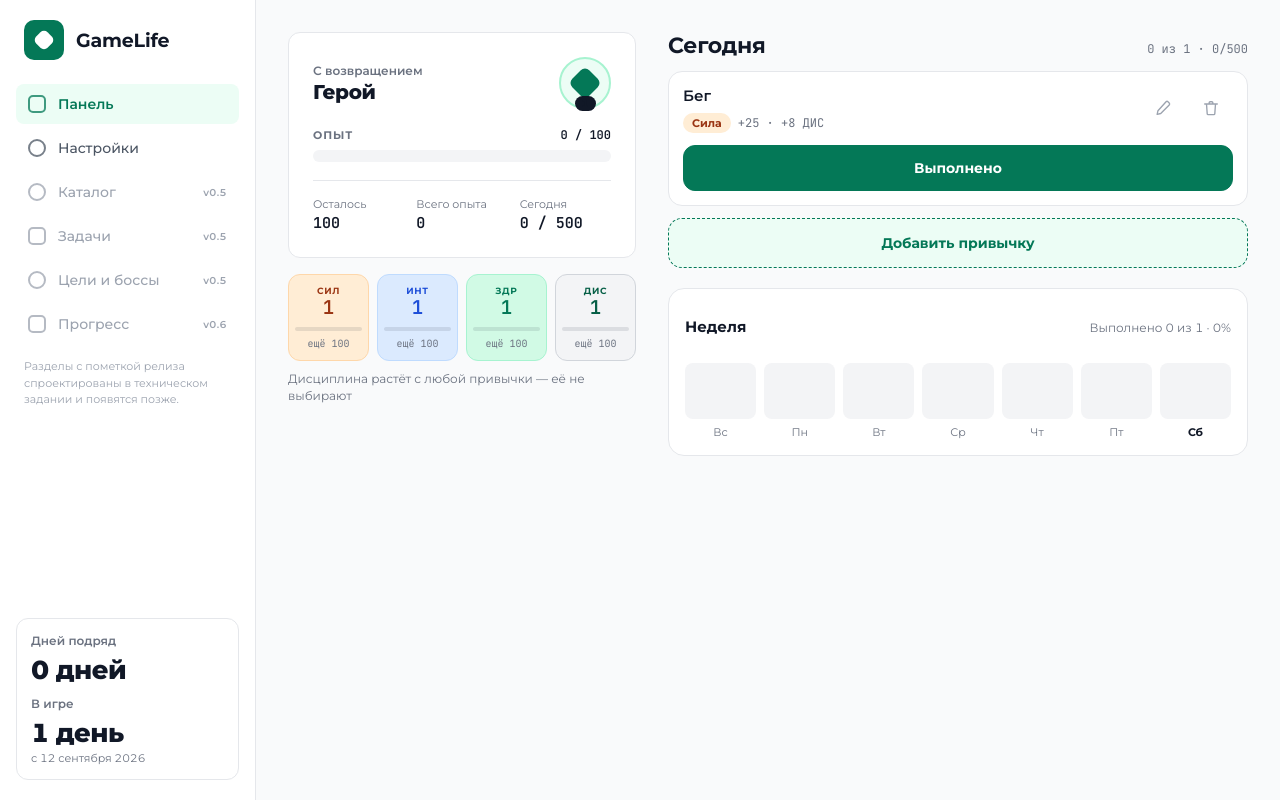
Scenario: живые действия › лист правки открывается с подставленными значениями
Click the button named "Изменить привычку".
click(1163, 108)  # box x1=1141 y1=86 x2=1185 y2=130
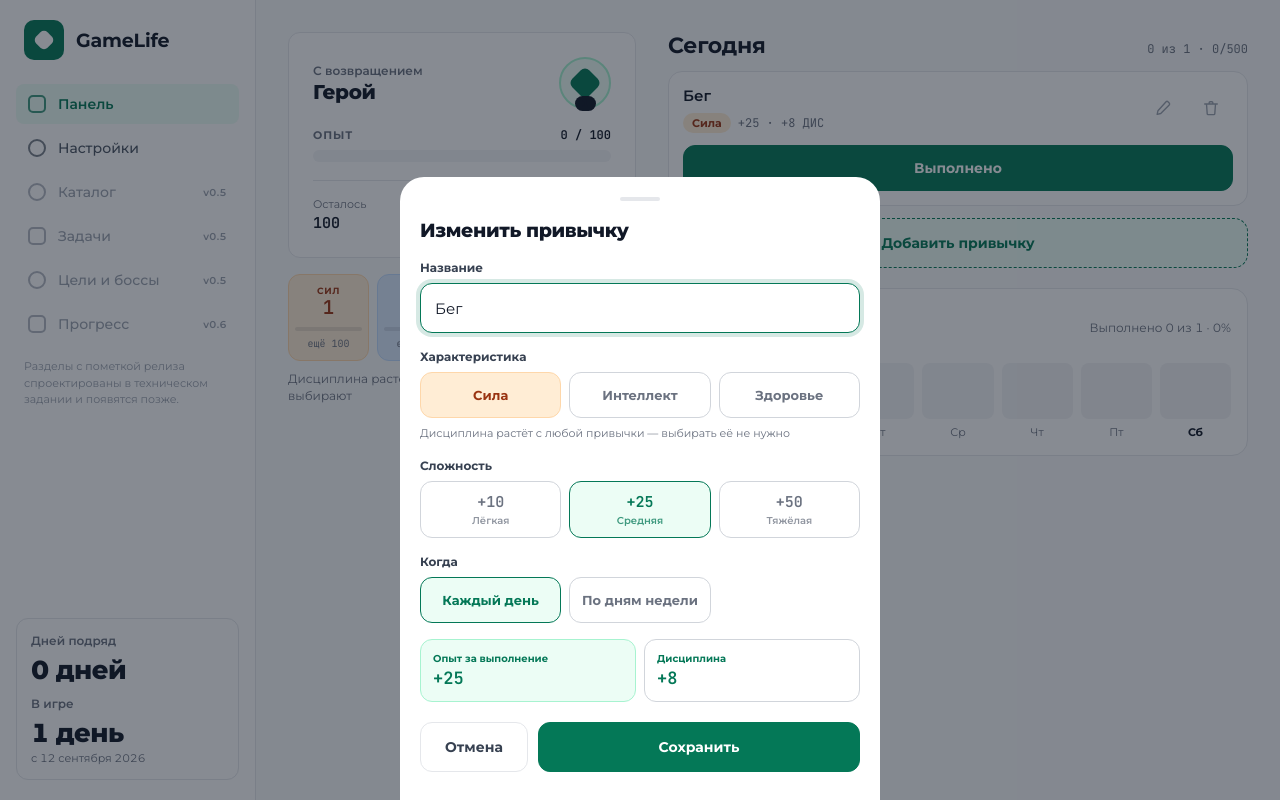
Expected: the field labelled "Название" holds "Бег", x1=420 y1=283 x2=860 y2=333
Expected: the heading "Изменить привычку" is shown, x1=420 y1=219 x2=628 y2=242
